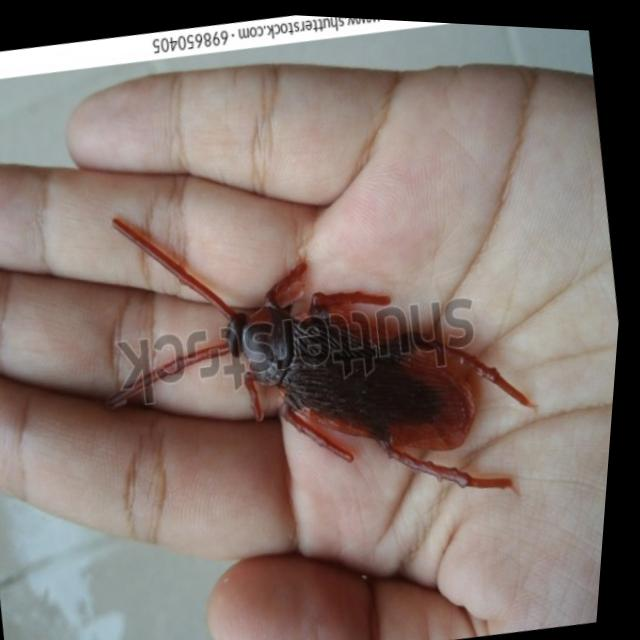Cockroach: (71, 138, 579, 570)
